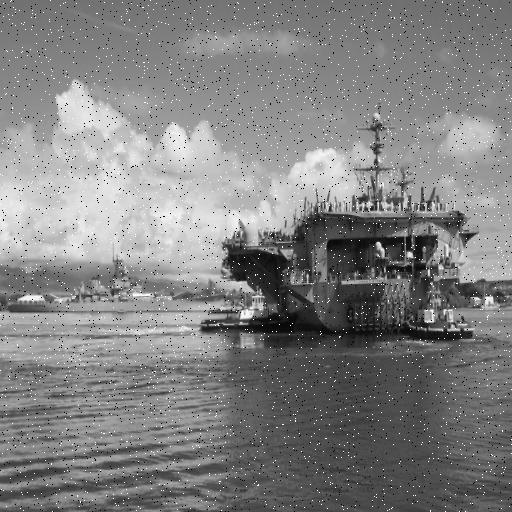Portanaves: (215, 93, 481, 339)
